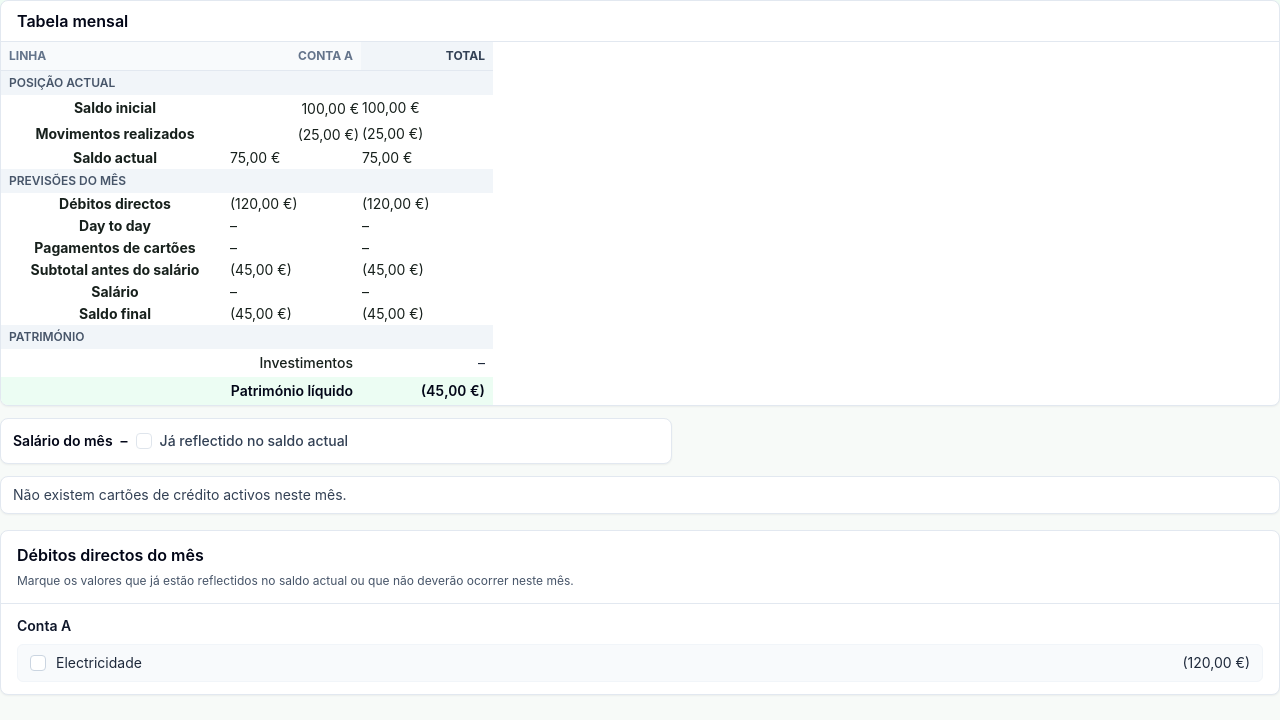
Scenario: MonthlyBudgetTable › reverts the checkbox and avoids false success on save error
Click the checkbox named "Excluir Electricidade da previsão deste mês". click: [38, 663]
box: [30, 655, 46, 671]
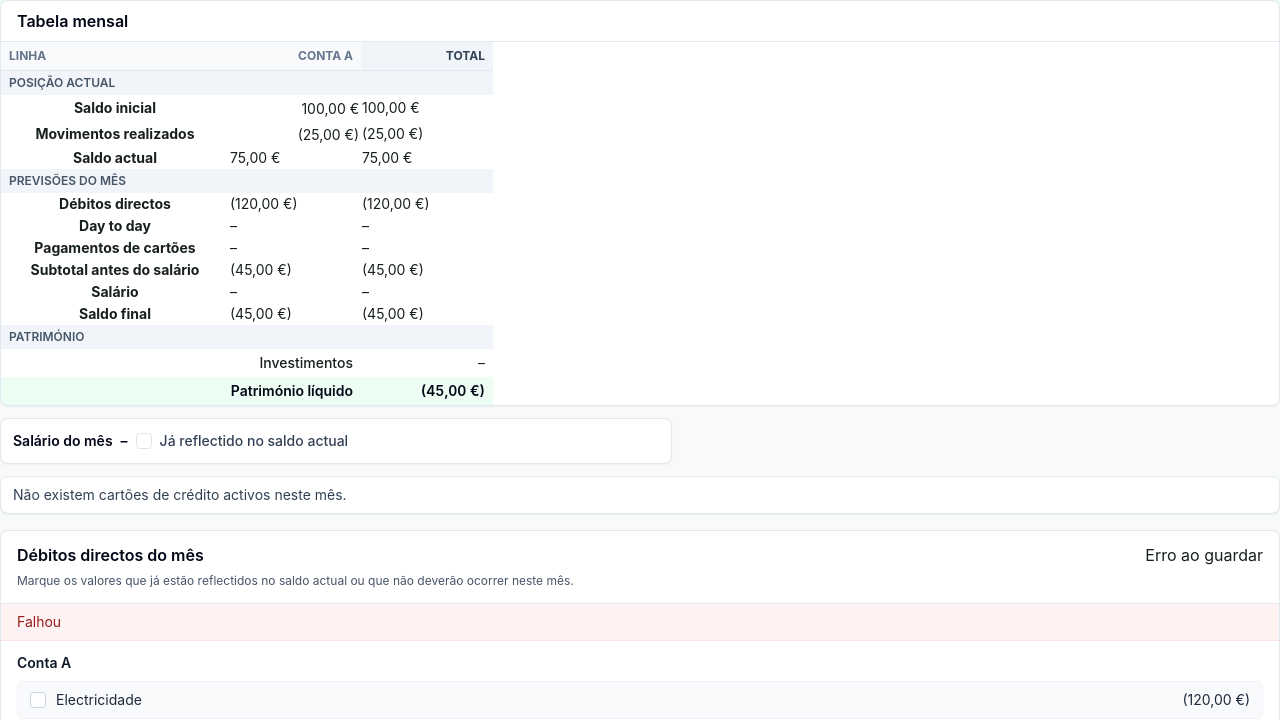
Expected: the checkbox named "Excluir Electricidade da previsão deste mês" is not checked, [30, 692, 46, 708]
Expected: the text "Erro ao guardar" is shown, [1145, 543, 1263, 567]
Expected: the text "Falhou" is shown, [1, 604, 1279, 641]
